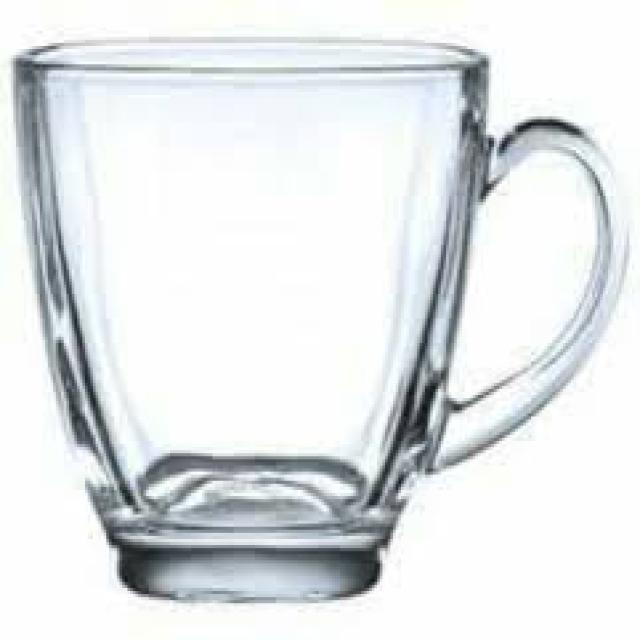taza: (12, 17, 630, 631)
